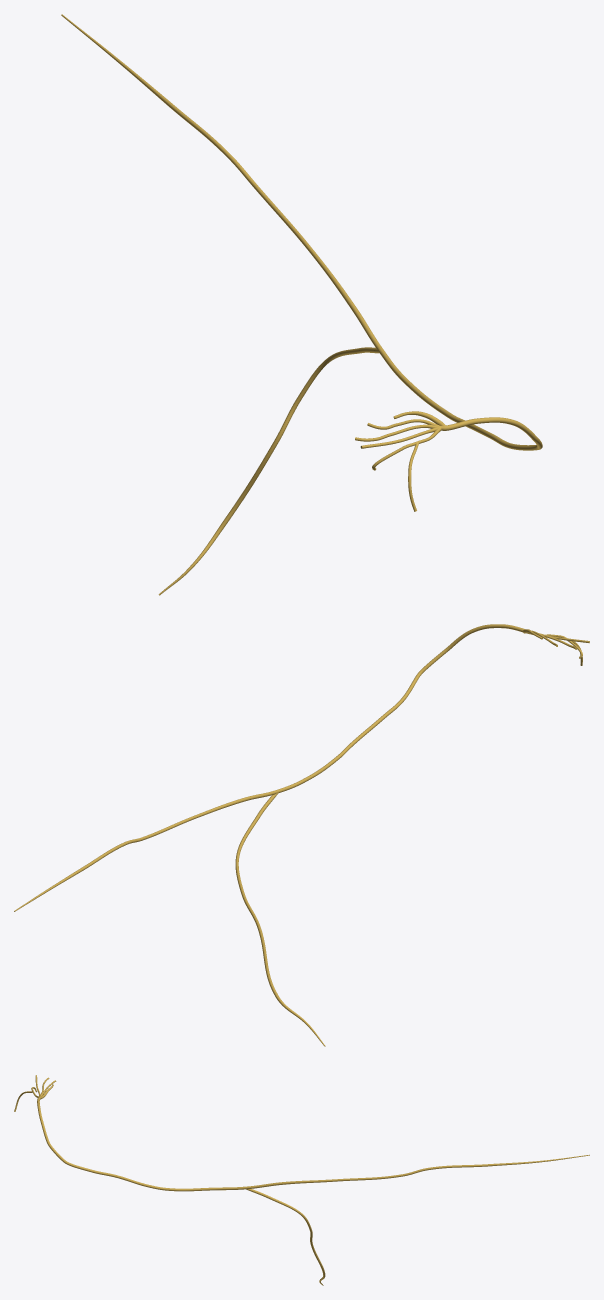
The picture shows the model from 3 angles, top to bottom: view 1: azimuth 30°, elevation 25°; view 2: azimuth 150°, elevation 25°; view 3: azimuth 270°, elevation 25°; orthographic projection. The views are drawn at different scales.
Parts seen in each view (by area): view 1: 左侧舌咽神经; view 2: 左侧舌咽神经; view 3: 左侧舌咽神经.
Part boxes in pixels (box(x1,y1,x2,y2)): 左侧舌咽神经: box(61, 14, 542, 595); 左侧舌咽神经: box(14, 624, 589, 1046); 左侧舌咽神经: box(14, 1075, 589, 1285).
Bounding box in the file's own units: 0.0574 × 0.0808 × 0.2174.
